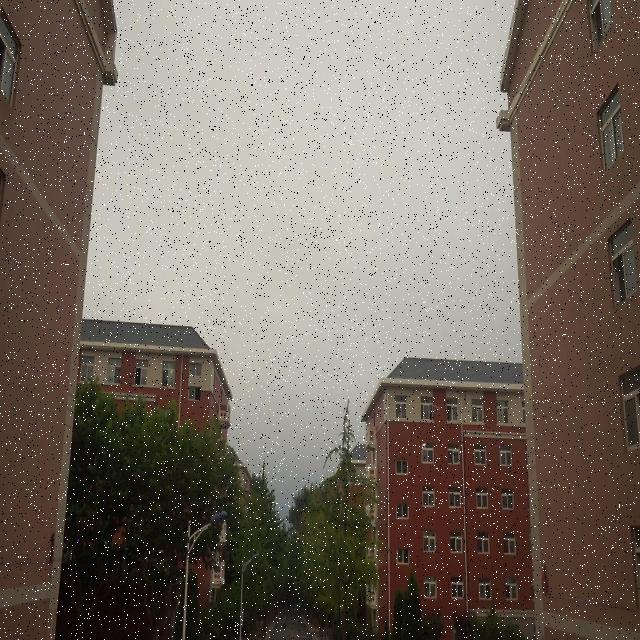UAV: (432, 403, 440, 412)
